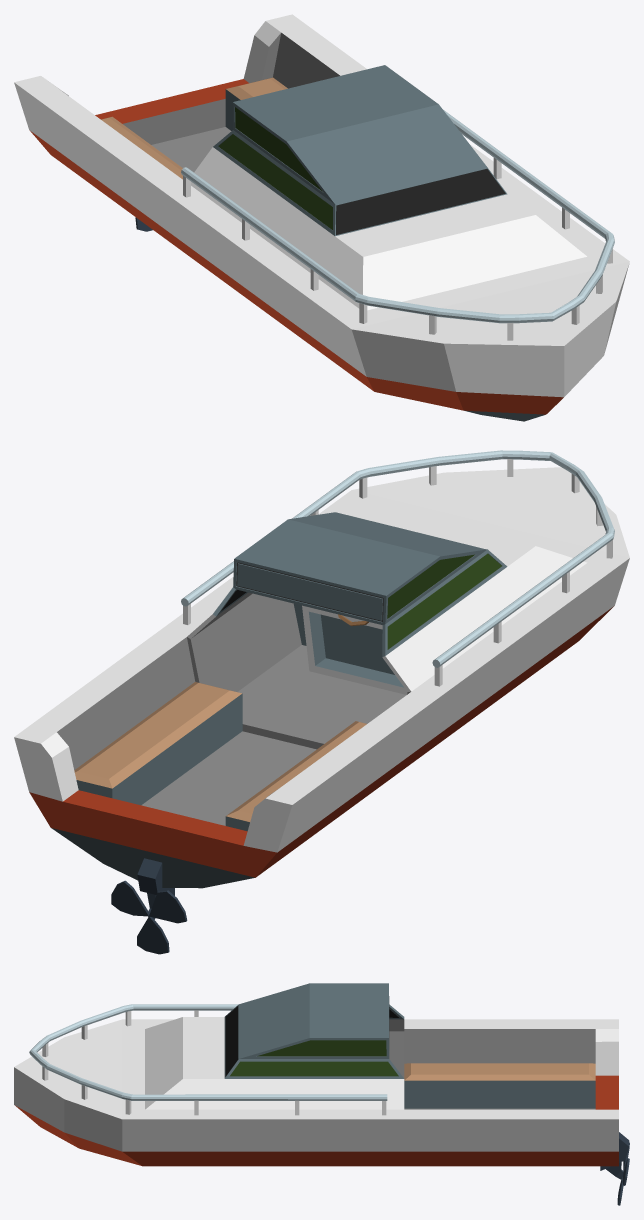
The model's file is Medium_Ship.glb.
The picture shows the model from 3 angles, top to bottom: view 1: azimuth 30°, elevation 25°; view 2: azimuth 150°, elevation 25°; view 3: azimuth 270°, elevation 25°; orthographic projection. The views are drawn at different scales.
Visible parts, largest first — view 1: Fisher_Boat; view 2: Fisher_Boat; view 3: Fisher_Boat.
Boxes of the visible parts, x1,y1,x2,y2 form: Fisher_Boat: (14,14,629,421); Fisher_Boat: (14,450,629,954); Fisher_Boat: (14,983,629,1205).
Bounding box in the file's own units: 2.23 × 2 × 5.8.
Materials: 1 (1 with a texture image).
